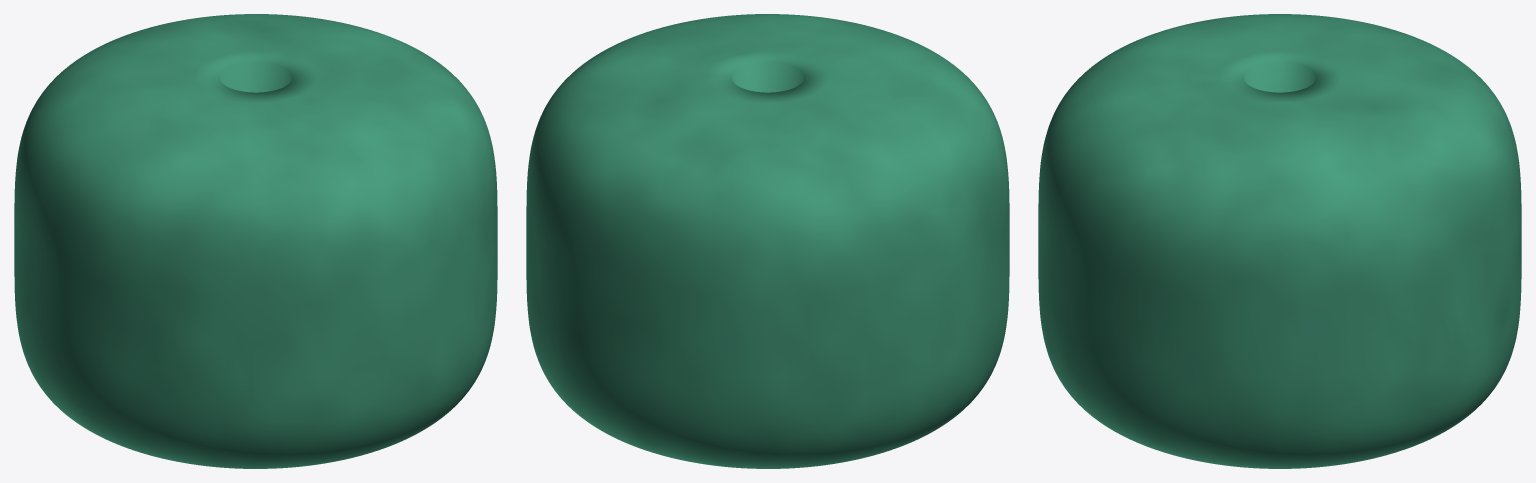
Rendered from straight-barrel.glb.
3 views of the same model, side by side, from view 1: azimuth 30°, elevation 25°; view 2: azimuth 150°, elevation 25°; view 3: azimuth 270°, elevation 25° (orthographic).
Parts seen in each view (by area): view 1: straight-barrel; view 2: straight-barrel; view 3: straight-barrel.
Part boxes in pixels (bbox=[...]): straight-barrel: bbox=[14, 14, 497, 468]; straight-barrel: bbox=[526, 14, 1009, 468]; straight-barrel: bbox=[1038, 14, 1521, 468].
Bounding box in the file's own units: 0.008 × 0.006 × 0.008.
